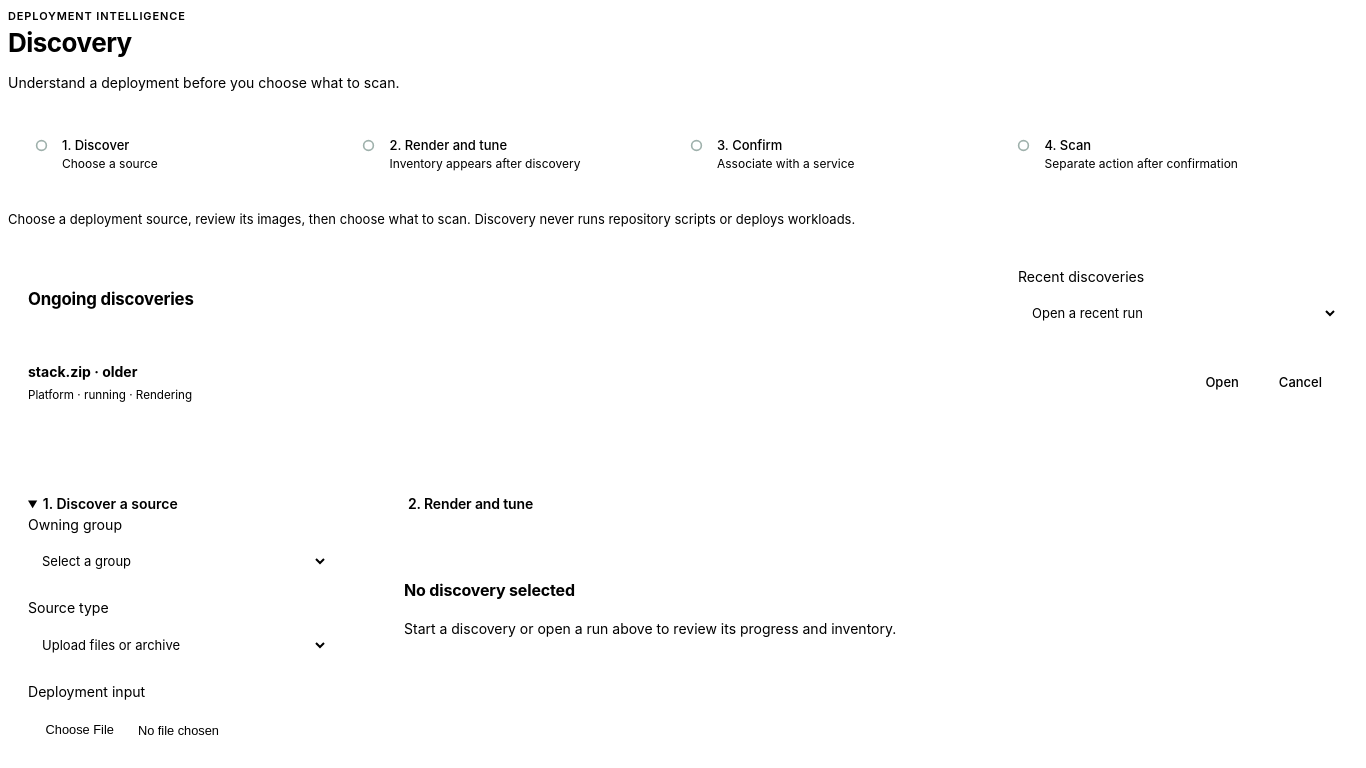
Test: rediscovers ongoing runs on return and lets the user start fresh while a run continues
The image size is (1366, 768).
Later steps or results of the test are not shown.
Click the button with aria-label "Open discovery stack.zip · older" at (1222, 383), box [1189,365,1255,401]
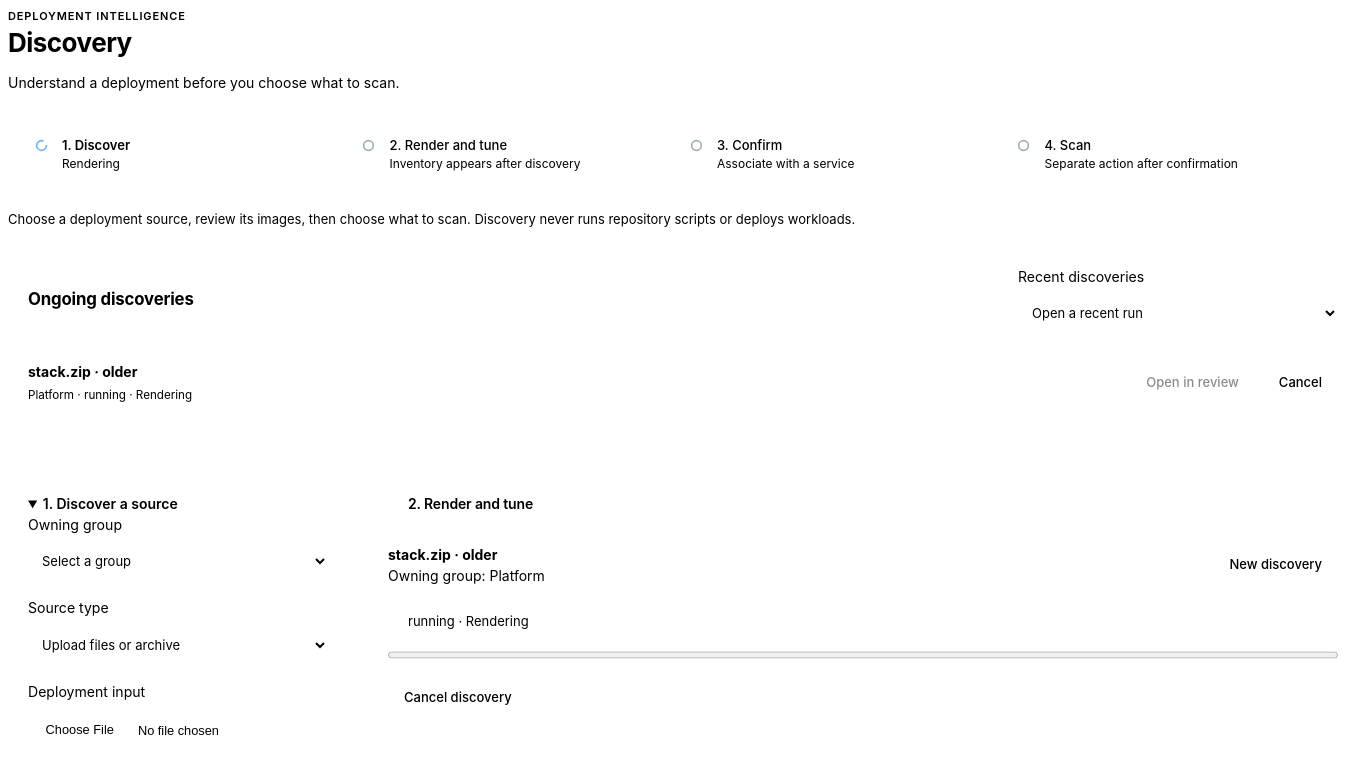
Check: the text "running · Rendering" is shown, box [408,613,529,629]
